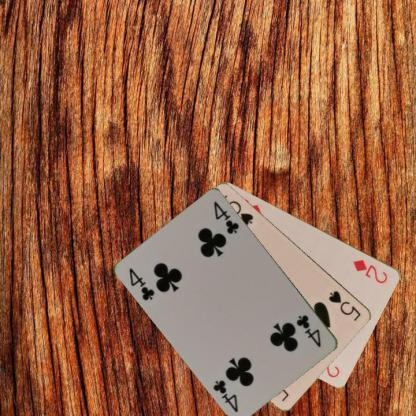2d: (351, 256, 389, 285)
4c: (293, 312, 323, 349), (127, 265, 156, 302)
5s: (326, 288, 363, 322)
